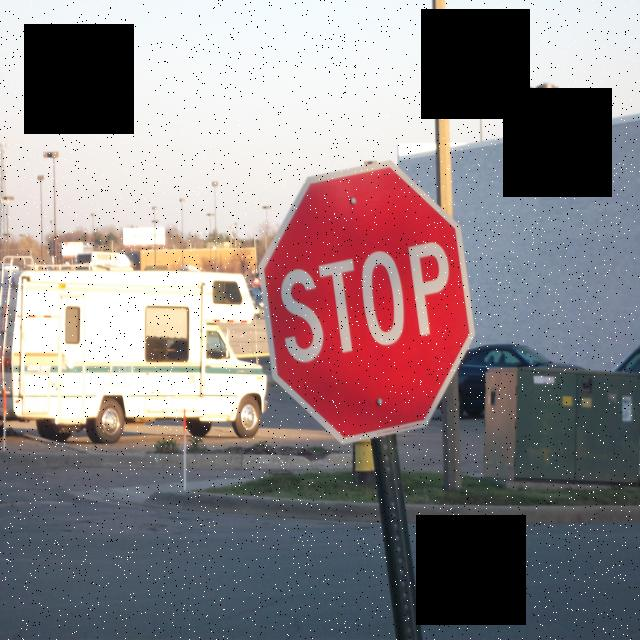stop: (261, 161, 478, 447)
